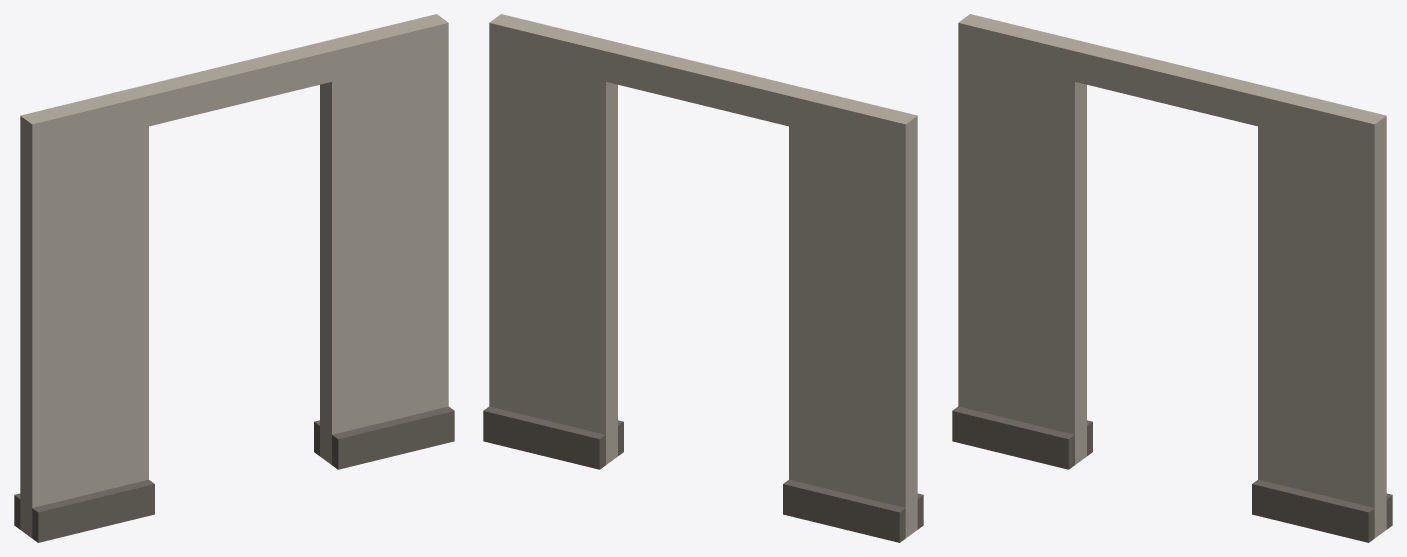
The model's file is raum_innentuer.glb.
3 views of the same model, side by side, from view 1: azimuth 30°, elevation 25°; view 2: azimuth 150°, elevation 25°; view 3: azimuth 330°, elevation 25° (orthographic).
Parts seen in each view (by area): view 1: tuer_pfosten, tuer_pfosten.001, tuer_sturz, tuer_sockel_a, tuer_sockel_a.001; view 2: tuer_pfosten, tuer_pfosten.001, tuer_sturz, tuer_sockel_b, tuer_sockel_b.001; view 3: tuer_pfosten.001, tuer_pfosten, tuer_sturz, tuer_sockel_a.001, tuer_sockel_a.
Part boxes in pixels (left/top/right/bottom): tuer_pfosten: left=20, top=96, right=148, bottom=538; tuer_pfosten.001: left=320, top=29, right=448, bottom=464; tuer_sturz: left=20, top=14, right=448, bottom=152; tuer_sockel_a: left=32, top=479, right=154, bottom=542; tuer_sockel_a.001: left=332, top=406, right=454, bottom=469; tuer_pfosten: left=789, top=96, right=917, bottom=538; tuer_pfosten.001: left=489, top=24, right=617, bottom=464; tuer_sturz: left=489, top=14, right=917, bottom=154; tuer_sockel_b: left=783, top=479, right=905, bottom=542; tuer_sockel_b.001: left=483, top=406, right=605, bottom=469; tuer_pfosten.001: left=1258, top=96, right=1386, bottom=538; tuer_pfosten: left=958, top=24, right=1086, bottom=464; tuer_sturz: left=958, top=14, right=1386, bottom=154; tuer_sockel_a.001: left=1252, top=479, right=1374, bottom=542; tuer_sockel_a: left=952, top=406, right=1074, bottom=469.
Size of the model in its own units: 2 by 1.9 by 0.2.
